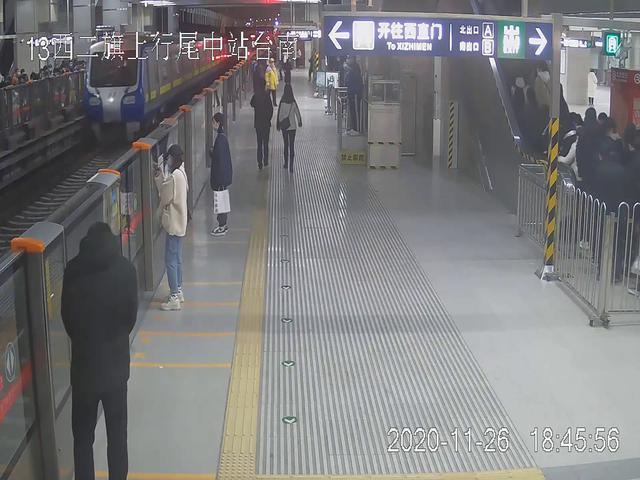person: (60, 221, 131, 480), (152, 142, 190, 311), (203, 112, 236, 235), (278, 80, 302, 171), (251, 76, 273, 174), (342, 56, 366, 138)
